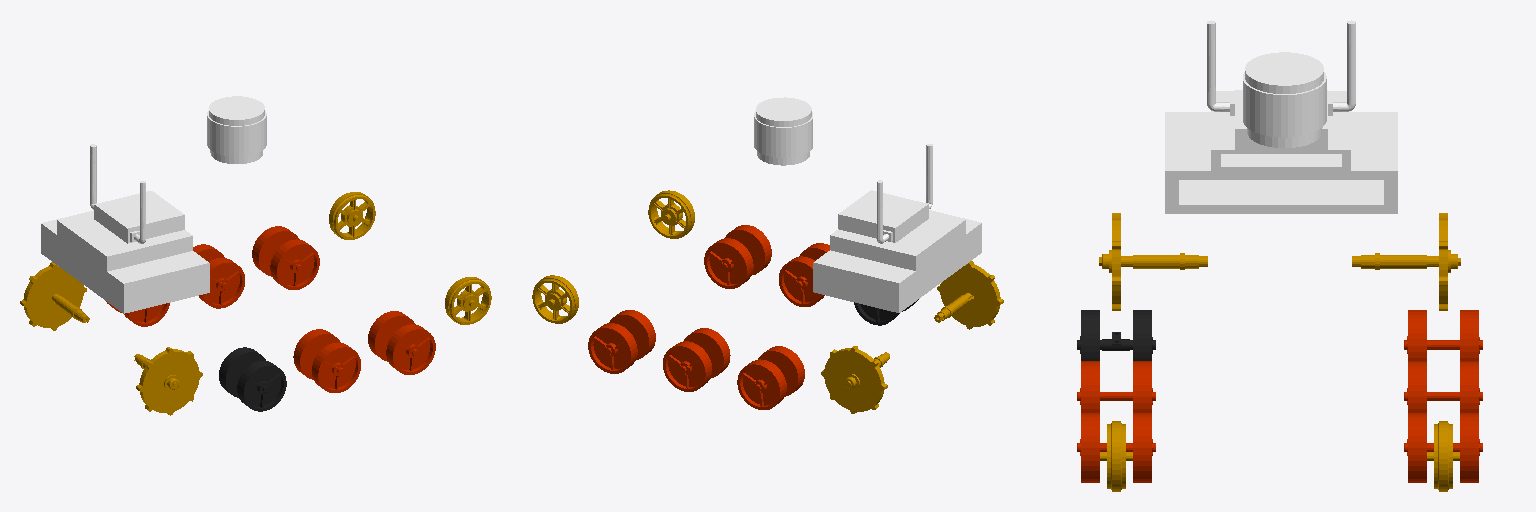
The robot description file, URDF, robot "vehicle_all":
<?xml version="1.0" encoding="utf-8"?>
<!-- This URDF was automatically created by SolidWorks to URDF Exporter! Originally created by [author] ([email redacted]) 
     Commit Version: 1.6.0-4-g7f85cfe  Build Version: 1.6.7995.38578
     For more information, please see http://wiki.ros.org/sw_urdf_exporter -->
<robot
  name="vehicle_all">
  <link
    name="base_link">
    <inertial>
      <origin
        xyz="0 0 0"
        rpy="0 0 0" />
      <mass
        value="75.985" />
      <inertia
        ixx="1.5666"
        ixy="-0.0063371"
        ixz="-0.019931"
        iyy="4.012"
        iyz="0.0003888"
        izz="4.7843" />
    </inertial>
    <visual>
      <origin
        xyz="0 0 0"
        rpy="0 0 0" />
      <geometry>
        <mesh
          filename="package://vehicle_all/meshes/base_link.STL" />
      </geometry>
      <material
        name="">
        <color
          rgba="1 1 1 1" />
      </material>
    </visual>
    <collision>
      <origin
        xyz="0 0 0.4"
        rpy="0 0 0" />
      <geometry>
        <box size="0.5 0.3 0.1"/>
      </geometry>
    </collision>
  </link>
  <link
    name="wheel1_Link">
    <inertial>
      <origin
        xyz="1.249E-08 -0.031581 7.4203E-05"
        rpy="0 0 0" />
      <mass
        value="0.78706" />
      <inertia
        ixx="0.0021017"
        ixy="-3.9045E-10"
        ixz="1.0314E-10"
        iyy="0.0034145"
        iyz="-1.9413E-06"
        izz="0.0021023" />
    </inertial>
    <visual>
      <origin
        xyz="0 0 0"
        rpy="0 0 0" />
      <geometry>
        <mesh
          filename="package://vehicle_all/meshes/wheel1_Link.STL" />
      </geometry>
      <material
        name="">
        <color
          rgba="0.81176 0.58431 0 1" />
      </material>
    </visual>
    <collision>
      <origin
        xyz="0 0 0"
        rpy="0 0 0" />
      <geometry>
        <mesh
          filename="package://vehicle_all/meshes/wheel1_Link.STL" />
      </geometry>
    </collision>
  </link>
  <joint
    name="wheel1_joint"
    type="continuous">
    <origin
      xyz="-0.42 0.366 0.03"
      rpy="0 -0.00015811 0" />
    <parent
      link="base_link" />
    <child
      link="wheel1_Link" />
    <axis
      xyz="0 1 0" />
    <limit effort="0.0" lower="-1e+16" upper="1e+16" velocity="0.0"/>
    <dynamics damping="0.1" friction="0.0"/>
  </joint>
  <link
    name="wheel2_Link">
    <inertial>
      <origin
        xyz="3.8164E-15 -0.075 1.4433E-15"
        rpy="0 0 0" />
      <mass
        value="1.1022" />
      <inertia
        ixx="0.004462"
        ixy="-5.8667E-19"
        ixz="-3.9762E-19"
        iyy="0.0031755"
        iyz="-1.015E-18"
        izz="0.004462" />
    </inertial>
    <visual>
      <origin
        xyz="0 0 0"
        rpy="0 0 0" />
      <geometry>
        <mesh
          filename="package://vehicle_all/meshes/wheel2_Link.STL" />
      </geometry>
      <material
        name="">
        <color
          rgba="0.81176 0.21569 0 1" />
      </material>
    </visual>
    <collision>
      <origin
        xyz="0 0 0"
        rpy="0 0 0" />
      <geometry>
        <mesh
          filename="package://vehicle_all/meshes/wheel2_Link.STL" />
      </geometry>
    </collision>
  </link>
  <joint
    name="wheel2_joint"
    type="continuous">
    <origin
      xyz="-0.13 0.425 -0.032"
      rpy="0 -0.00015811 0" />
    <parent
      link="base_link" />
    <child
      link="wheel2_Link" />
    <axis
      xyz="0 1 0" />
    <limit effort="0.0" lower="-1e+16" upper="1e+16" velocity="0.0"/>
    <dynamics damping="0.1" friction="0.0"/>
  </joint>
  <link
    name="wheel3_Link">
    <inertial>
      <origin
        xyz="1.4932E-14 -0.075 2.2204E-15"
        rpy="0 0 0" />
      <mass
        value="1.1022" />
      <inertia
        ixx="0.004462"
        ixy="-2.1041E-20"
        ixz="-6.2154E-19"
        iyy="0.0031755"
        iyz="2.1064E-18"
        izz="0.004462" />
    </inertial>
    <visual>
      <origin
        xyz="0 0 0"
        rpy="0 0 0" />
      <geometry>
        <mesh
          filename="package://vehicle_all/meshes/wheel3_Link.STL" />
      </geometry>
      <material
        name="">
        <color
          rgba="0.81176 0.21569 0 1" />
      </material>
    </visual>
    <collision>
      <origin
        xyz="0 0 0"
        rpy="0 0 0" />
      <geometry>
        <mesh
          filename="package://vehicle_all/meshes/wheel3_Link.STL" />
      </geometry>
    </collision>
  </link>
  <joint
    name="wheel3_joint"
    type="continuous">
    <origin
      xyz="0.13 0.425 -0.032"
      rpy="0 -0.00015811 0" />
    <parent
      link="base_link" />
    <child
      link="wheel3_Link" />
    <axis
      xyz="0 1 0" />
    <limit effort="0.0" lower="-1e+16" upper="1e+16" velocity="0.0"/>
    <dynamics damping="0.1" friction="0.0"/>
  </joint>
  <link
    name="wheel4_Link">
    <inertial>
      <origin
        xyz="-6.9944E-15 -0.075 2.3315E-15"
        rpy="0 0 0" />
      <mass
        value="1.1022" />
      <inertia
        ixx="0.004462"
        ixy="2.5768E-18"
        ixz="-3.6642E-19"
        iyy="0.0031755"
        iyz="1.2893E-18"
        izz="0.004462" />
    </inertial>
    <visual>
      <origin
        xyz="0 0 0"
        rpy="0 0 0" />
      <geometry>
        <mesh
          filename="package://vehicle_all/meshes/wheel4_Link.STL" />
      </geometry>
      <material
        name="">
        <color
          rgba="0.81176 0.21569 0 1" />
      </material>
    </visual>
    <collision>
      <origin
        xyz="0 0 0"
        rpy="0 0 0" />
      <geometry>
        <mesh
          filename="package://vehicle_all/meshes/wheel4_Link.STL" />
      </geometry>
    </collision>
  </link>
  <joint
    name="wheel4_joint"
    type="continuous">
    <origin
      xyz="0.39 0.425 -0.032"
      rpy="0 -0.00015811 0" />
    <parent
      link="base_link" />
    <child
      link="wheel4_Link" />
    <axis
      xyz="0 1 0" />
    <limit effort="0.0" lower="-1e+16" upper="1e+16" velocity="0.0"/>
    <dynamics damping="0.1" friction="0.0"/>
  </joint>
  <link
    name="wheel5_Link">
    <inertial>
      <origin
        xyz="1.3323E-15 -0.019999 -7.7716E-15"
        rpy="0 0 0" />
      <mass
        value="0.33834" />
      <inertia
        ixx="0.00052483"
        ixy="2.5902E-20"
        ixz="4.9142E-19"
        iyy="0.0009698"
        iyz="7.5057E-22"
        izz="0.00052483" />
    </inertial>
    <visual>
      <origin
        xyz="0 0 0"
        rpy="0 0 0" />
      <geometry>
        <mesh
          filename="package://vehicle_all/meshes/wheel5_Link.STL" />
      </geometry>
      <material
        name="">
        <color
          rgba="0.81176 0.58431 0 1" />
      </material>
    </visual>
    <collision>
      <origin
        xyz="0 0 0"
        rpy="0 0 0" />
      <geometry>
        <mesh
          filename="package://vehicle_all/meshes/wheel5_Link.STL" />
      </geometry>
    </collision>
  </link>
  <joint
    name="wheel5_jointk"
    type="continuous">
    <origin
      xyz="0.62093 0.37 0.055"
      rpy="0 -0.00015811 0" />
    <parent
      link="base_link" />
    <child
      link="wheel5_Link" />
    <axis
      xyz="0 1 0" />
    <limit effort="0.0" lower="-1e+16" upper="1e+16" velocity="0.0"/>
    <dynamics damping="0.1" friction="0.0"/>
  </joint>
  <link
    name="wheel6_Link">
    <inertial>
      <origin
        xyz="8.8818E-16 0.019999 2.2204E-16"
        rpy="0 0 0" />
      <mass
        value="0.33834" />
      <inertia
        ixx="0.00052483"
        ixy="1.4066E-19"
        ixz="3.0058E-19"
        iyy="0.0009698"
        iyz="-5.8602E-19"
        izz="0.00052483" />
    </inertial>
    <visual>
      <origin
        xyz="0 0 0"
        rpy="0 0 0" />
      <geometry>
        <mesh
          filename="package://vehicle_all/meshes/wheel6_Link.STL" />
      </geometry>
      <material
        name="">
        <color
          rgba="0.81176 0.58431 0 1" />
      </material>
    </visual>
    <collision>
      <origin
        xyz="0 0 0"
        rpy="0 0 0" />
      <geometry>
        <mesh
          filename="package://vehicle_all/meshes/wheel6_Link.STL" />
      </geometry>
    </collision>
  </link>
  <joint
    name="wheel6_joint"
    type="continuous">
    <origin
      xyz="0.62093 -0.37 0.055"
      rpy="0 -0.00015811 0" />
    <parent
      link="base_link" />
    <child
      link="wheel6_Link" />
    <axis
      xyz="0 1 0" />
    <limit effort="0.0" lower="-1e+16" upper="1e+16" velocity="0.0"/>
    <dynamics damping="0.1" friction="0.0"/>
  </joint>
  <link
    name="wheel7_Link">
    <inertial>
      <origin
        xyz="1.1657E-14 0.075 2.5535E-15"
        rpy="0 0 0" />
      <mass
        value="1.1022" />
      <inertia
        ixx="0.004462"
        ixy="2.1354E-18"
        ixz="1.2535E-19"
        iyy="0.0031755"
        iyz="-6.1694E-19"
        izz="0.004462" />
    </inertial>
    <visual>
      <origin
        xyz="0 0 0"
        rpy="0 0 0" />
      <geometry>
        <mesh
          filename="package://vehicle_all/meshes/wheel7_Link.STL" />
      </geometry>
      <material
        name="">
        <color
          rgba="0.81176 0.21569 0 1" />
      </material>
    </visual>
    <collision>
      <origin
        xyz="0 0 0"
        rpy="0 0 0" />
      <geometry>
        <mesh
          filename="package://vehicle_all/meshes/wheel7_Link.STL" />
      </geometry>
    </collision>
  </link>
  <joint
    name="wheel7_joint"
    type="continuous">
    <origin
      xyz="0.39 -0.425 -0.032"
      rpy="0 -0.00015811 0" />
    <parent
      link="base_link" />
    <child
      link="wheel7_Link" />
    <axis
      xyz="0 1 0" />
    <limit effort="0.0" lower="-1e+16" upper="1e+16" velocity="0.0"/>
    <dynamics damping="0.1" friction="0.0"/>
  </joint>
  <link
    name="wheel8_Link">
    <inertial>
      <origin
        xyz="-2.9421E-15 0.075 2.3315E-15"
        rpy="0 0 0" />
      <mass
        value="1.1022" />
      <inertia
        ixx="0.004462"
        ixy="-8.7001E-19"
        ixz="3.4482E-20"
        iyy="0.0031755"
        iyz="3.386E-19"
        izz="0.004462" />
    </inertial>
    <visual>
      <origin
        xyz="0 0 0"
        rpy="0 0 0" />
      <geometry>
        <mesh
          filename="package://vehicle_all/meshes/wheel8_Link.STL" />
      </geometry>
      <material
        name="">
        <color
          rgba="0.81176 0.21569 0 1" />
      </material>
    </visual>
    <collision>
      <origin
        xyz="0 0 0"
        rpy="0 0 0" />
      <geometry>
        <mesh
          filename="package://vehicle_all/meshes/wheel8_Link.STL" />
      </geometry>
    </collision>
  </link>
  <joint
    name="wheel8_joint"
    type="continuous">
    <origin
      xyz="0.13 -0.425 -0.032"
      rpy="0 -0.00015811 0" />
    <parent
      link="base_link" />
    <child
      link="wheel8_Link" />
    <axis
      xyz="0 1 0" />
    <limit effort="0.0" lower="-1e+16" upper="1e+16" velocity="0.0"/>
    <dynamics damping="0.1" friction="0.0"/>
  </joint>
  <link
    name="wheel9_Link">
    <inertial>
      <origin
        xyz="1.0381E-08 0.075 6.5657E-05"
        rpy="0 0 0" />
      <mass
        value="1.1155" />
      <inertia
        ixx="0.0044652"
        ixy="-4.6244E-19"
        ixz="2.0986E-10"
        iyy="0.0031779"
        iyz="5.5756E-19"
        izz="0.0044665" />
    </inertial>
    <visual>
      <origin
        xyz="0 0 0"
        rpy="0 0 0" />
      <geometry>
        <mesh
          filename="package://vehicle_all/meshes/wheel9_Link.STL" />
      </geometry>
      <material
        name="">
        <color
          rgba="0.18039 0.18039 0.18039 1" />
      </material>
    </visual>
    <collision>
      <origin
        xyz="0 0 0"
        rpy="0 0 0" />
      <geometry>
        <mesh
          filename="package://vehicle_all/meshes/wheel9_Link.STL" />
      </geometry>
    </collision>
  </link>
  <joint
    name="wheel9_joint"
    type="continuous">
    <origin
      xyz="-0.13 -0.425 -0.032"
      rpy="0 -0.00015811 0" />
    <parent
      link="base_link" />
    <child
      link="wheel9_Link" />
    <axis
      xyz="0 1 0" />
    <limit effort="0.0" lower="-1e+16" upper="1e+16" velocity="0.0"/>
    <dynamics damping="0.1" friction="0.0"/>
  </joint>
  <link
    name="wheel10_Link">
    <inertial>
      <origin
        xyz="7.4203E-05 0.031581 -1.0974E-08"
        rpy="0 0 0" />
      <mass
        value="0.78706" />
      <inertia
        ixx="0.0021023"
        ixy="1.9413E-06"
        ixz="-8.0629E-11"
        iyy="0.0034145"
        iyz="-2.2342E-10"
        izz="0.0021017" />
    </inertial>
    <visual>
      <origin
        xyz="0 0 0"
        rpy="0 0 0" />
      <geometry>
        <mesh
          filename="package://vehicle_all/meshes/wheel10_Link.STL" />
      </geometry>
      <material
        name="">
        <color
          rgba="0.81176 0.58431 0 1" />
      </material>
    </visual>
    <collision>
      <origin
        xyz="0 0 0"
        rpy="0 0 0" />
      <geometry>
        <mesh
          filename="package://vehicle_all/meshes/wheel10_Link.STL" />
      </geometry>
    </collision>
  </link>
  <joint
    name="wheel510_joint"
    type="continuous">
    <origin
      xyz="-0.42 -0.366 0.03"
      rpy="0 -0.00015811 0" />
    <parent
      link="base_link" />
    <child
      link="wheel10_Link" />
    <axis
      xyz="0 -1 0" />
    <limit effort="0.0" lower="-1e+16" upper="1e+16" velocity="0.0"/>
    <dynamics damping="0.1" friction="0.0"/>
  </joint>
  <link
    name="radar_Link">
    <inertial>
      <origin
        xyz="1.2123E-05 -5.9952E-15 0.076677"
        rpy="0 0 0" />
      <mass
        value="3.6018" />
      <inertia
        ixx="0.013262"
        ixy="2.5338E-18"
        ixz="9.7104E-08"
        iyy="0.013262"
        iyz="1.4167E-18"
        izz="0.013876" />
    </inertial>
    <visual>
      <origin
        xyz="0 0 0"
        rpy="0 0 0" />
      <geometry>
        <mesh
          filename="package://vehicle_all/meshes/radar_Link.STL" />
      </geometry>
      <material
        name="">
        <color
          rgba="1 1 1 1" />
      </material>
    </visual>
    <collision>
      <origin
        xyz="0 0 0"
        rpy="0 0 0" />
      <geometry>
        <mesh
          filename="package://vehicle_all/meshes/radar_Link.STL" />
      </geometry>
    </collision>
  </link>
  <joint
    name="radar_joint"
    type="fixed">
    <origin
      xyz="0.0225 0.01 0.541"
      rpy="0 -0.00015811 0" />
    <parent
      link="base_link" />
    <child
      link="radar_Link" />
    <axis
      xyz="0 0 0" />
  </joint>
  <link
    name="GPS_Link">
    <inertial>
      <origin
        xyz="-0.0057511 -1.1102E-15 -0.019587"
        rpy="0 0 0" />
      <mass
        value="2.1661" />
      <inertia
        ixx="0.011976"
        ixy="-9.9705E-18"
        ixz="0.00081192"
        iyy="0.0094436"
        iyz="1.8695E-18"
        izz="0.017601" />
    </inertial>
    <visual>
      <origin
        xyz="0 0 0"
        rpy="0 0 0" />
      <geometry>
        <mesh
          filename="package://vehicle_all/meshes/GPS_Link.STL" />
      </geometry>
      <material
        name="">
        <color
          rgba="1 1 1 1" />
      </material>
    </visual>
    <collision>
      <origin
        xyz="0 0 0"
        rpy="0 0 0" />
      <geometry>
        <mesh
          filename="package://vehicle_all/meshes/GPS_Link.STL" />
      </geometry>
    </collision>
  </link>
  <joint
    name="GPS_joint"
    type="fixed">
    <origin
      xyz="-0.32066 0.0030057 0.436"
      rpy="0 0 0" />
    <parent
      link="base_link" />
    <child
      link="GPS_Link" />
    <axis
      xyz="0 0 0" />
  </joint>
  <link
    name="imu_Link">
    <inertial>
      <origin
        xyz="-0.0054677 4.6629E-15 -0.024999"
        rpy="0 0 0" />
      <mass
        value="2.07" />
      <inertia
        ixx="0.018699"
        ixy="-2.1525E-17"
        ixz="2.518E-06"
        iyy="0.017436"
        iyz="2.5453E-18"
        izz="0.034625" />
    </inertial>
    <visual>
      <origin
        xyz="0 0 0"
        rpy="0 0 0" />
      <geometry>
        <mesh
          filename="package://vehicle_all/meshes/imu_Link.STL" />
      </geometry>
      <material
        name="">
        <color
          rgba="1 1 1 1" />
      </material>
    </visual>
    <collision>
      <origin
        xyz="0 0 0"
        rpy="0 0 0" />
      <geometry>
        <mesh
          filename="package://vehicle_all/meshes/imu_Link.STL" />
      </geometry>
    </collision>
  </link>
  <joint
    name="imu_joint"
    type="fixed">
    <origin
      xyz="-0.37066 0.0030057 0.386"
      rpy="0 -0.00015811 0" />
    <parent
      link="base_link" />
    <child
      link="imu_Link" />
    <axis
      xyz="0 0 0" />
  </joint>
  <link
    name="control_Link">
    <inertial>
      <origin
        xyz="-0.0096163 -4.885E-15 -0.049998"
        rpy="0 0 0" />
      <mass
        value="3.984" />
      <inertia
        ixx="0.10849"
        ixy="-4.4802E-17"
        ixz="4.6873E-06"
        iyy="0.043019"
        iyz="-5.0038E-17"
        izz="0.13814" />
    </inertial>
    <visual>
      <origin
        xyz="0 0 0"
        rpy="0 0 0" />
      <geometry>
        <mesh
          filename="package://vehicle_all/meshes/control_Link.STL" />
      </geometry>
      <material
        name="">
        <color
          rgba="1 1 1 1" />
      </material>
    </visual>
    <collision>
      <origin
        xyz="0 0 0"
        rpy="0 0 0" />
      <geometry>
        <mesh
          filename="package://vehicle_all/meshes/control_Link.STL" />
      </geometry>
    </collision>
  </link>
  <joint
    name="control_joint"
    type="fixed">
    <origin
      xyz="-0.37066 0.0030057 0.336"
      rpy="0 -0.00015811 0" />
    <parent
      link="base_link" />
    <child
      link="control_Link" />
    <axis
      xyz="0 0 0" />
  </joint>

  <!-- Gazebo properties for base_link -->
  <gazebo reference="base_link">
    <material>Gazebo/Grey</material>
    <mu1>0.0</mu1>
    <mu2>0.0</mu2>
    <kp>1000000.0</kp>
    <kd>100.0</kd>
    <minDepth>0.001</minDepth>
    <maxVel>1.0</maxVel>
  </gazebo>

  <!-- Gazebo properties for wheels - All wheels use same color for vehicle identification -->
  <gazebo reference="wheel1_Link">
    <mu1>500.0</mu1>
    <mu2>300.0</mu2>
    <kp>1000000.0</kp>
    <kd>100.0</kd>
    <minDepth>0.001</minDepth>
    <maxVel>0.01</maxVel>
    <material>Gazebo/White</material>
  </gazebo>

  <gazebo reference="wheel2_Link">
    <mu1>500.0</mu1>
    <mu2>300.0</mu2>
    <kp>1000000.0</kp>
    <kd>100.0</kd>
    <minDepth>0.001</minDepth>
    <maxVel>0.01</maxVel>
    <material>Gazebo/White</material>
  </gazebo>

  <gazebo reference="wheel3_Link">
    <mu1>500.0</mu1>
    <mu2>300.0</mu2>
    <kp>1000000.0</kp>
    <kd>100.0</kd>
    <minDepth>0.001</minDepth>
    <maxVel>0.01</maxVel>
    <material>Gazebo/White</material>
  </gazebo>

  <gazebo reference="wheel4_Link">
    <mu1>500.0</mu1>
    <mu2>300.0</mu2>
    <kp>1000000.0</kp>
    <kd>100.0</kd>
    <minDepth>0.001</minDepth>
    <maxVel>0.01</maxVel>
    <material>Gazebo/White</material>
  </gazebo>

  <gazebo reference="wheel5_Link">
    <mu1>500.0</mu1>
    <mu2>300.0</mu2>
    <kp>1000000.0</kp>
    <kd>100.0</kd>
    <minDepth>0.001</minDepth>
    <maxVel>0.01</maxVel>
    <material>Gazebo/White</material>
  </gazebo>

  <gazebo reference="wheel6_Link">
    <mu1>500.0</mu1>
    <mu2>300.0</mu2>
    <kp>1000000.0</kp>
    <kd>100.0</kd>
    <minDepth>0.001</minDepth>
    <maxVel>0.01</maxVel>
    <material>Gazebo/White</material>
  </gazebo>

  <gazebo reference="wheel7_Link">
    <mu1>500.0</mu1>
    <mu2>300.0</mu2>
    <kp>1000000.0</kp>
    <kd>100.0</kd>
    <minDepth>0.001</minDepth>
    <maxVel>0.01</maxVel>
    <material>Gazebo/White</material>
  </gazebo>

  <gazebo reference="wheel8_Link">
    <mu1>500.0</mu1>
    <mu2>300.0</mu2>
    <kp>1000000.0</kp>
    <kd>100.0</kd>
    <minDepth>0.001</minDepth>
    <maxVel>0.01</maxVel>
    <material>Gazebo/White</material>
  </gazebo>

  <gazebo reference="wheel9_Link">
    <mu1>500.0</mu1>
    <mu2>300.0</mu2>
    <kp>1000000.0</kp>
    <kd>100.0</kd>
    <minDepth>0.001</minDepth>
    <maxVel>0.01</maxVel>
    <material>Gazebo/White</material>
  </gazebo>

  <gazebo reference="wheel10_Link">
    <mu1>500.0</mu1>
    <mu2>300.0</mu2>
    <kp>1000000.0</kp>
    <kd>100.0</kd>
    <minDepth>0.001</minDepth>
    <maxVel>0.01</maxVel>
    <material>Gazebo/White</material>
  </gazebo>

  <!-- Gazebo plugins -->

  <!-- Wheel tracked vehicle plugin -->
  <gazebo>
    <plugin name="wheel_tracked_vehicle_controller" filename="libWheelTrackedVehiclePlugin_tr.so">
      <!-- Left side wheels (y > 0) -->
      <left_joint>wheel2_joint</left_joint>
      <left_joint>wheel3_joint</left_joint>
      <left_joint>wheel4_joint</left_joint>
      <!-- Right side wheels (y < 0) -->
      <right_joint>wheel7_joint</right_joint>
      <right_joint>wheel8_joint</right_joint>
      <right_joint>wheel9_joint</right_joint>
      <track_mu>2.0</track_mu>
      <track_mu2>1.5</track_mu2>
    </plugin>
  </gazebo>

  <!-- ROS tracked drive plugin -->
  <gazebo>
    <plugin name="tracked_drive" filename="libgazebo_ros_tracked_drive_tr.so">
      <commandTopic>cmd_vel</commandTopic>
      <pubTopic>/cmd_vel_twist</pubTopic>
      <legacyMode>1</legacyMode>
    </plugin>
  </gazebo>

  <!-- Ground truth publisher -->
  <gazebo>
    <plugin name="p3d_base_controller" filename="libgazebo_ros_p3d_tr.so">
      <alwaysOn>true</alwaysOn>
      <updateRate>50.0</updateRate>
      <bodyName>base_link</bodyName>
      <topicName>ground_truth/state</topicName>
      <gaussianNoise>0.01</gaussianNoise>
      <frameName>world</frameName>
      <xyzOffset>0 0 0</xyzOffset>
      <rpyOffset>0 0 0</rpyOffset>
    </plugin>
  </gazebo>

  <!-- Joint state publisher from Gazebo -->
  <gazebo>
    <plugin name="joint_state_publisher" filename="libgazebo_ros_joint_state_publisher.so">
      <ros>
        <namespace>/</namespace>
        <remapping>joint_states:=joint_states</remapping>
      </ros>
      <update_rate>50</update_rate>
      <joint_name>wheel1_joint</joint_name>
      <joint_name>wheel2_joint</joint_name>
      <joint_name>wheel3_joint</joint_name>
      <joint_name>wheel4_joint</joint_name>
      <joint_name>wheel5_jointk</joint_name>
      <joint_name>wheel6_joint</joint_name>
      <joint_name>wheel7_joint</joint_name>
      <joint_name>wheel8_joint</joint_name>
      <joint_name>wheel9_joint</joint_name>
      <joint_name>wheel510_joint</joint_name>
    </plugin>
  </gazebo>

</robot>

--- Render facts (derived) ---
The picture shows the robot from 3 angles, left to right: view 1: azimuth 30°, elevation 25°; view 2: azimuth 150°, elevation 25°; view 3: azimuth 270°, elevation 25°; orthographic projection.
Robot: vehicle_all — 15 links, 14 joints (10 continuous, 4 fixed); root link base_link; default pose: all joints at 0.
Links seen in each view (by area): view 1: control_Link, imu_Link, GPS_Link, radar_Link, wheel10_Link, wheel1_Link, wheel7_Link, wheel9_Link, wheel8_Link, wheel4_Link, wheel3_Link, wheel6_Link (+2 smaller); view 2: control_Link, imu_Link, GPS_Link, radar_Link, wheel1_Link, wheel10_Link, wheel4_Link, wheel7_Link, wheel2_Link, wheel3_Link, wheel8_Link, wheel5_Link (+2 smaller); view 3: control_Link, radar_Link, imu_Link, GPS_Link, wheel4_Link, wheel7_Link, wheel9_Link, wheel2_Link, wheel3_Link, wheel8_Link, wheel10_Link, wheel1_Link (+2 smaller).
Boxes of the visible links, x1=… form: control_Link: x1=41, y1=210, x2=209, y2=313; imu_Link: x1=57, y1=212, x2=192, y2=271; GPS_Link: x1=90, y1=144, x2=184, y2=243; radar_Link: x1=207, y1=96, x2=266, y2=163; wheel10_Link: x1=134, y1=347, x2=202, y2=415; wheel1_Link: x1=20, y1=262, x2=89, y2=330; wheel7_Link: x1=368, y1=311, x2=435, y2=374; wheel9_Link: x1=219, y1=347, x2=286, y2=411; wheel8_Link: x1=293, y1=329, x2=360, y2=392; wheel4_Link: x1=252, y1=226, x2=319, y2=289; wheel3_Link: x1=193, y1=244, x2=244, y2=308; wheel6_Link: x1=445, y1=277, x2=491, y2=324; control_Link: x1=813, y1=210, x2=981, y2=312; imu_Link: x1=830, y1=211, x2=965, y2=270; GPS_Link: x1=838, y1=144, x2=932, y2=243; radar_Link: x1=754, y1=97, x2=812, y2=165; wheel1_Link: x1=821, y1=346, x2=889, y2=413; wheel10_Link: x1=934, y1=261, x2=1003, y2=329; wheel4_Link: x1=588, y1=310, x2=655, y2=373; wheel7_Link: x1=704, y1=225, x2=771, y2=288; wheel2_Link: x1=737, y1=346, x2=804, y2=409; wheel3_Link: x1=663, y1=328, x2=730, y2=391; wheel8_Link: x1=779, y1=243, x2=829, y2=306; wheel5_Link: x1=532, y1=275, x2=578, y2=323; control_Link: x1=1165, y1=112, x2=1397, y2=213; radar_Link: x1=1243, y1=52, x2=1326, y2=147; imu_Link: x1=1211, y1=91, x2=1350, y2=170; GPS_Link: x1=1207, y1=20, x2=1355, y2=149; wheel4_Link: x1=1404, y1=413, x2=1482, y2=482; wheel7_Link: x1=1077, y1=413, x2=1155, y2=482; wheel9_Link: x1=1077, y1=310, x2=1155, y2=360; wheel2_Link: x1=1404, y1=310, x2=1482, y2=360; wheel3_Link: x1=1404, y1=361, x2=1482, y2=412; wheel8_Link: x1=1077, y1=361, x2=1155, y2=412; wheel10_Link: x1=1099, y1=213, x2=1207, y2=310; wheel1_Link: x1=1352, y1=213, x2=1460, y2=310.
Size in the robot's own frame: 1.23 by 0.868 by 0.798 metres.
14 mesh visuals loaded from 15 distinct referenced files (14 binary STL); not drawn: 1 (reference not matched to a file when rendering).
